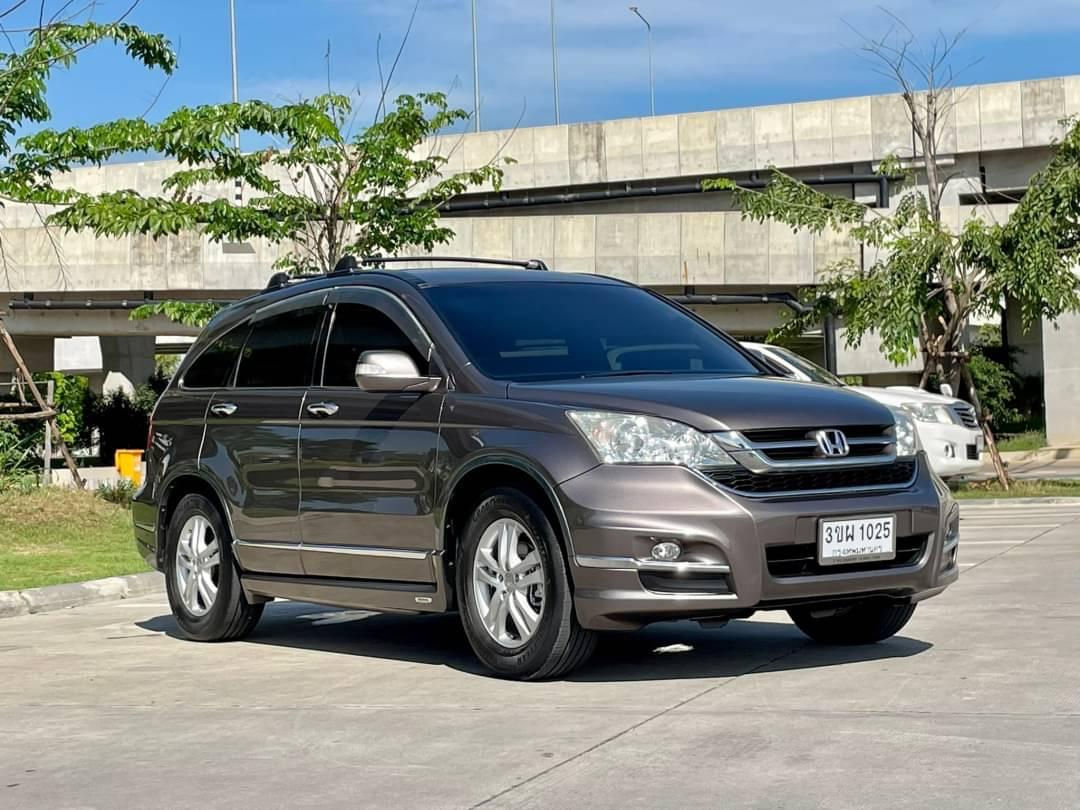license-plate: (810, 510, 906, 573)
